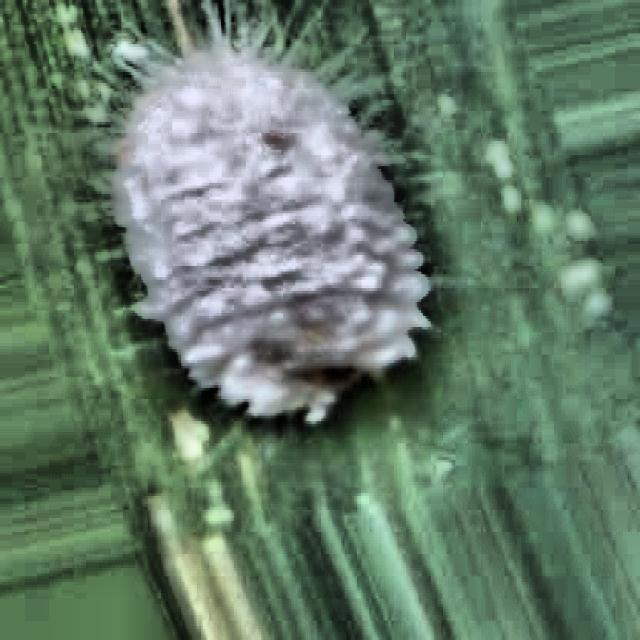Mealy-bug: (66, 6, 483, 562)
